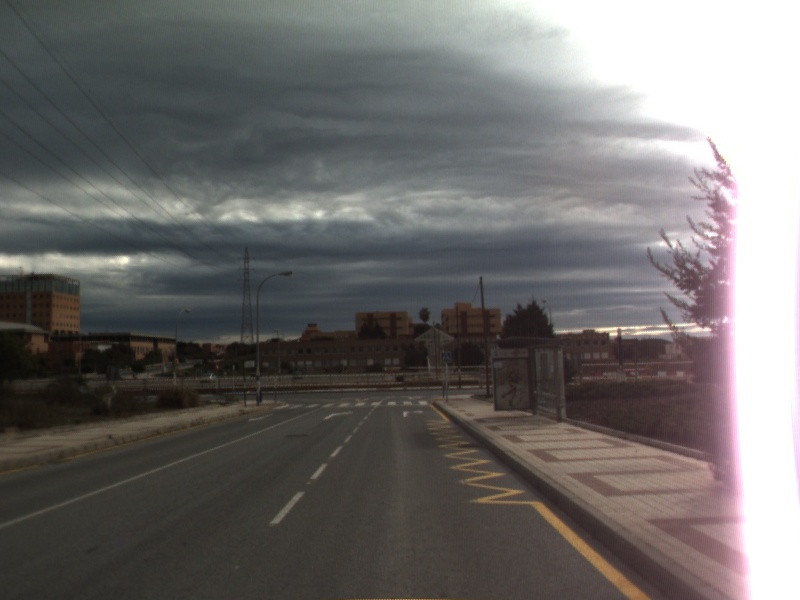RIGHT: (321, 408, 357, 421), (400, 408, 427, 420)
